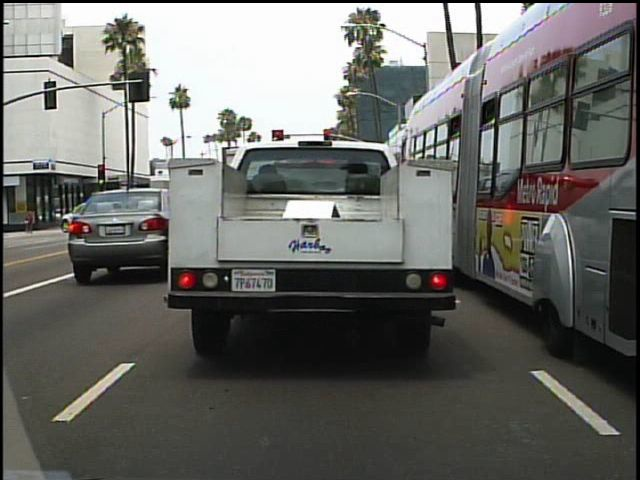person: (25, 208, 38, 238)
